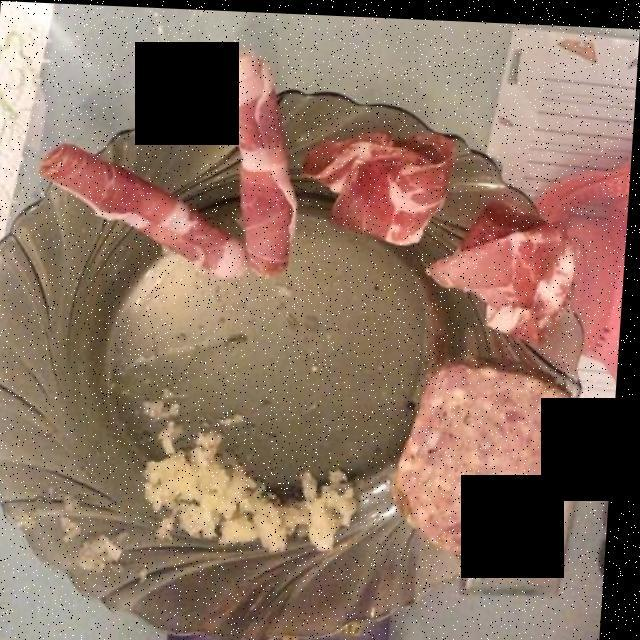garlic: (133, 431, 357, 550)
ham: (43, 54, 597, 339)
meat-terrine-pate: (390, 341, 581, 567)
